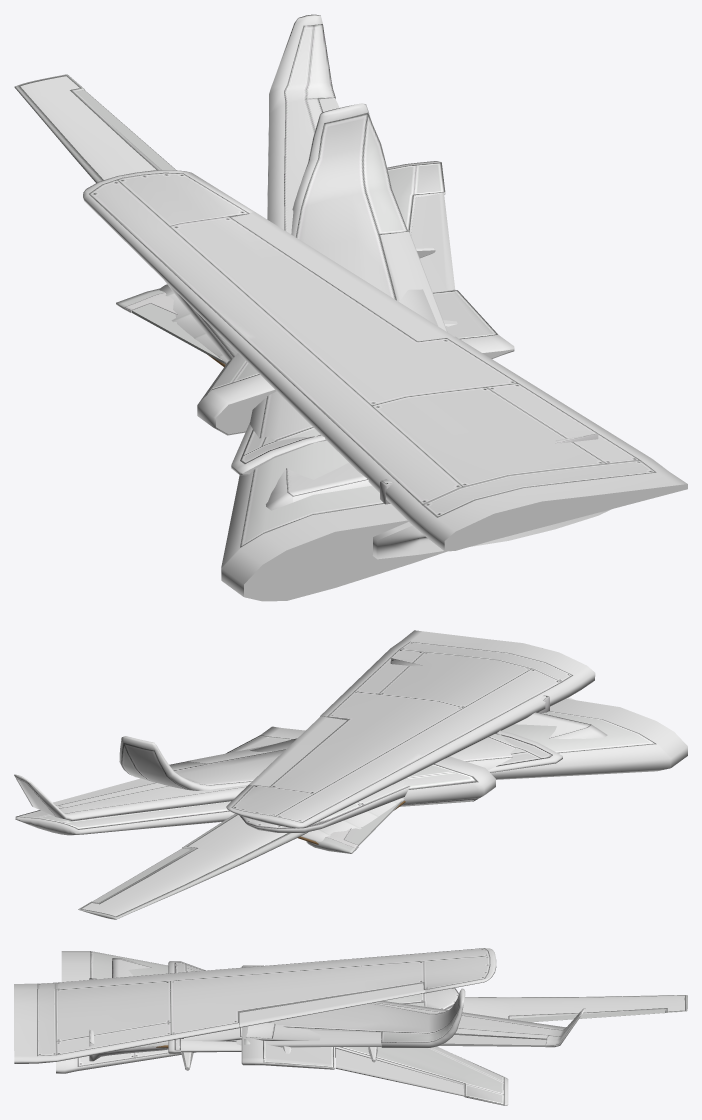
File: Parts_Wings.glb
3 renders of one model, top to bottom at view 1: azimuth 30°, elevation 25°; view 2: azimuth 150°, elevation 25°; view 3: azimuth 270°, elevation 25°, orthographic. The views are drawn at different scales.
Parts seen in each view (by area): view 1: StraightWing__1, SmallJetWing__1, StraightWing__0, SmallJetWing__0, BigWing__0, GliderWing__1, BigWing__1, StraightWing__2, DeltaWing02__1, DeltaWing02__0, DeltaWing02__2, ElectronWing__0 (+6 smaller); view 2: StraightWing__1, StraightWing__0, SmallJetWing__0, SmallJetWing__1, GliderWing__1, DeltaWing02__0, DeltaWing02__1, BigWing__0, BigWing__1, GliderWing__0, StraightWing__2, WoodWing__0 (+9 smaller); view 3: StraightWing__1, SmallJetWing__1, DeltaWing02__1, StraightWing__0, GliderWing__1, BigWing__0, StraightWing__2, BigWing__1, DeltaWing02__2, SmallJetWing__0, DeltaWing02__0, ElectronWing__1 (+8 smaller).
Boxes of the visible parts, x1,y1,x2,y2 form: StraightWing__1: [89, 172, 656, 517]; SmallJetWing__1: [240, 112, 407, 547]; StraightWing__0: [83, 170, 687, 551]; SmallJetWing__0: [221, 103, 447, 601]; BigWing__0: [284, 24, 371, 502]; GliderWing__1: [20, 76, 156, 179]; BigWing__1: [266, 14, 457, 510]; StraightWing__2: [231, 212, 454, 341]; DeltaWing02__1: [205, 162, 497, 396]; DeltaWing02__0: [197, 161, 514, 435]; DeltaWing02__2: [411, 193, 455, 292]; ElectronWing__0: [164, 280, 610, 559]; StraightWing__1: [231, 641, 573, 822]; StraightWing__0: [226, 630, 595, 828]; SmallJetWing__0: [119, 698, 687, 790]; SmallJetWing__1: [121, 711, 656, 789]; GliderWing__1: [82, 815, 287, 916]; DeltaWing02__0: [15, 726, 495, 835]; DeltaWing02__1: [16, 735, 478, 831]; BigWing__0: [16, 712, 591, 816]; BigWing__1: [14, 725, 607, 820]; GliderWing__0: [78, 814, 308, 919]; StraightWing__2: [249, 716, 346, 786]; WoodWing__0: [298, 798, 405, 844]; StraightWing__1: [37, 948, 490, 1056]; SmallJetWing__1: [90, 951, 459, 1042]; DeltaWing02__1: [263, 965, 504, 1104]; StraightWing__0: [14, 948, 496, 1063]; GliderWing__1: [446, 995, 684, 1018]; BigWing__0: [112, 959, 579, 1047]; StraightWing__2: [239, 983, 425, 1027]; BigWing__1: [112, 958, 585, 1070]; DeltaWing02__2: [335, 1048, 464, 1096]; SmallJetWing__0: [61, 951, 465, 1047]; DeltaWing02__0: [241, 965, 508, 1105]; ElectronWing__1: [77, 988, 458, 1066].
Size of the model in its own units: 5 by 1.51 by 8.45.
Materials: 41 (21 with a texture image).
